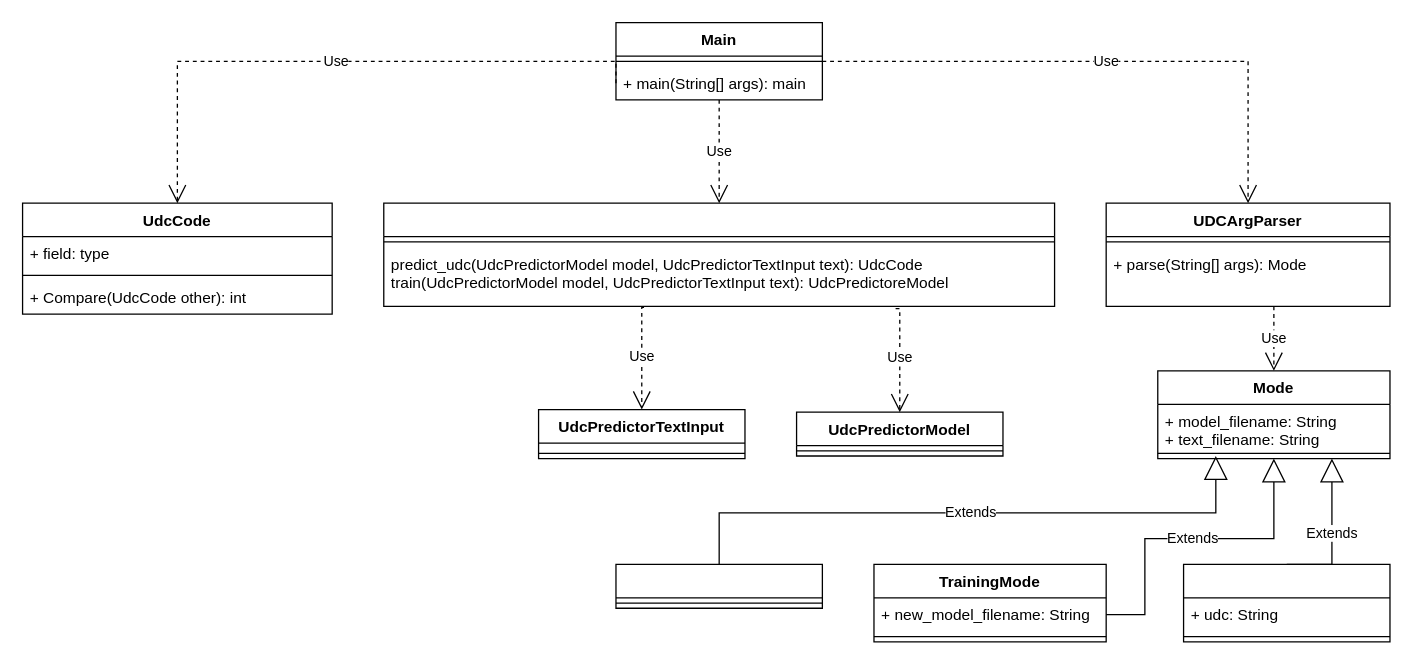
The diagram is 1413 pixels wide and 664 high, and some of its shapes have lost their labels. The box of each missing label's shape, as (x1, y1, x2, y2) in pixels:
Backend: (382, 202, 1055, 306)
PredictionMode: (615, 563, 822, 608)
UDCComparisonMode: (1182, 563, 1390, 642)
